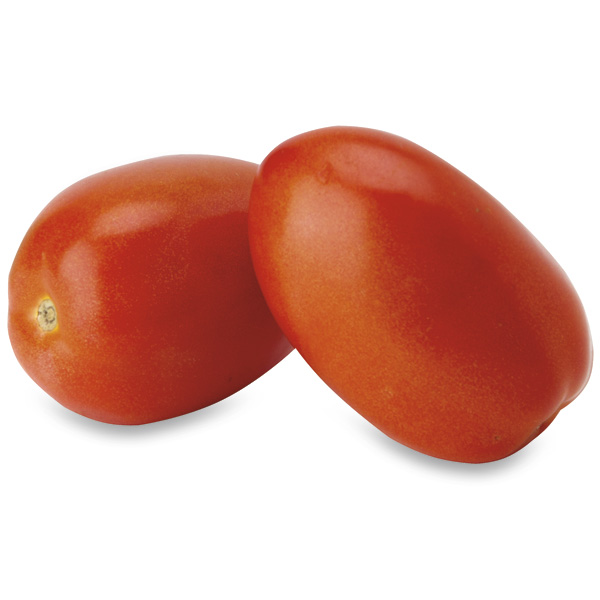tomato: (262, 120, 575, 480), (28, 154, 267, 420)
